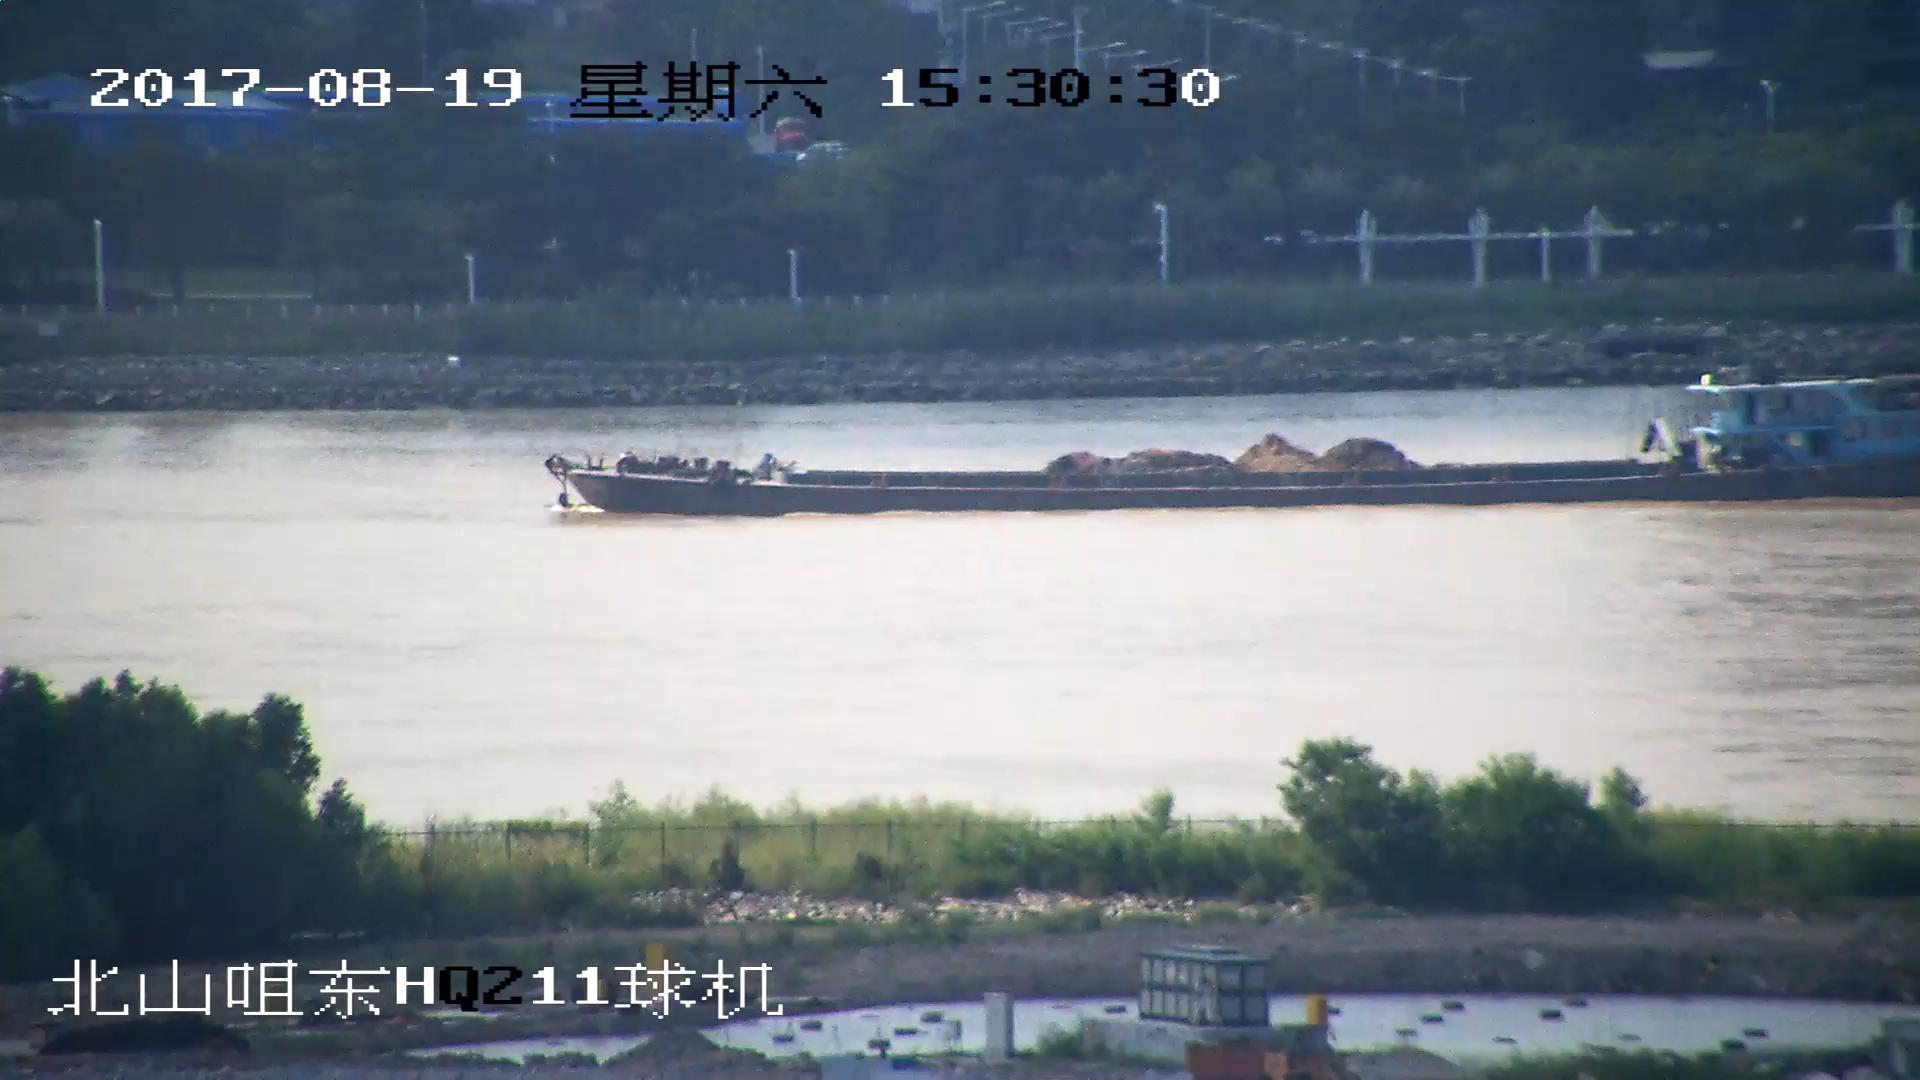Ship: (547, 380, 1920, 516)
